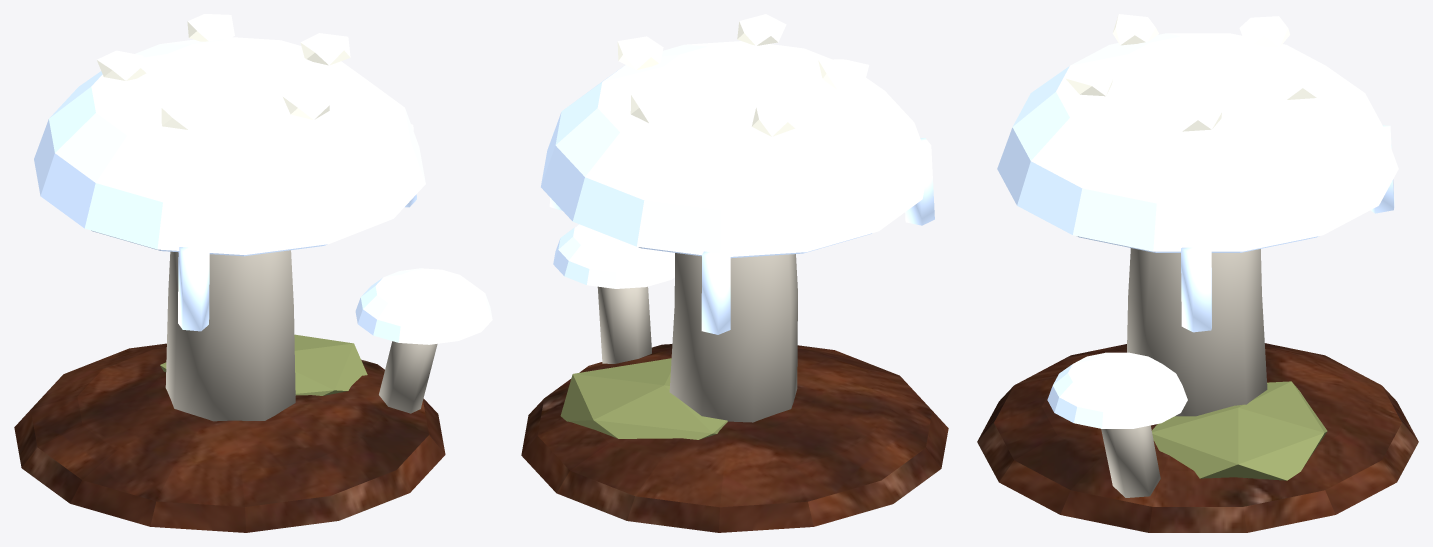
The model's file is bellcap.glb.
3 renders of one model, left to right at view 1: azimuth 30°, elevation 25°; view 2: azimuth 150°, elevation 25°; view 3: azimuth 270°, elevation 25°, orthographic. The views are drawn at different scales.
Visible parts, largest first — view 1: model; view 2: model; view 3: model.
Boxes of the visible parts, x1=… form: model: x1=14, y1=14, x2=492, y2=532; model: x1=521, y1=14, x2=948, y2=532; model: x1=977, y1=14, x2=1418, y2=532.
Size of the model in its own units: 0.2314 by 0.2128 by 0.22.
7 materials, 1 textured.
